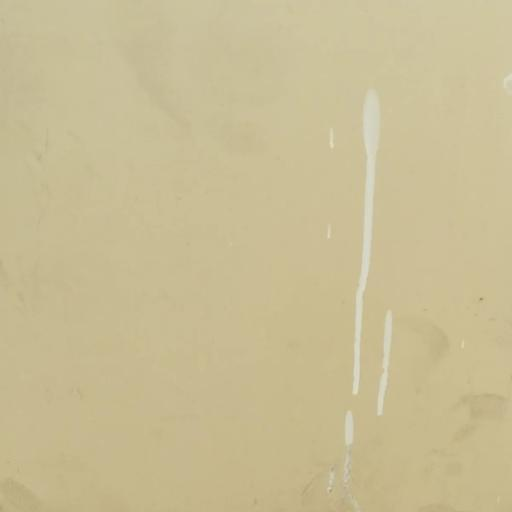stain: (303, 92, 418, 512), (112, 37, 213, 149), (447, 376, 512, 464)
